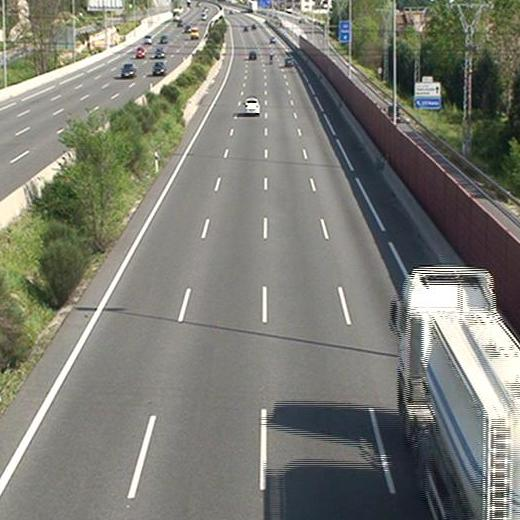car: (244, 97, 260, 114), (247, 50, 258, 60), (285, 58, 294, 67)
tank-truck: (391, 269, 520, 520)
